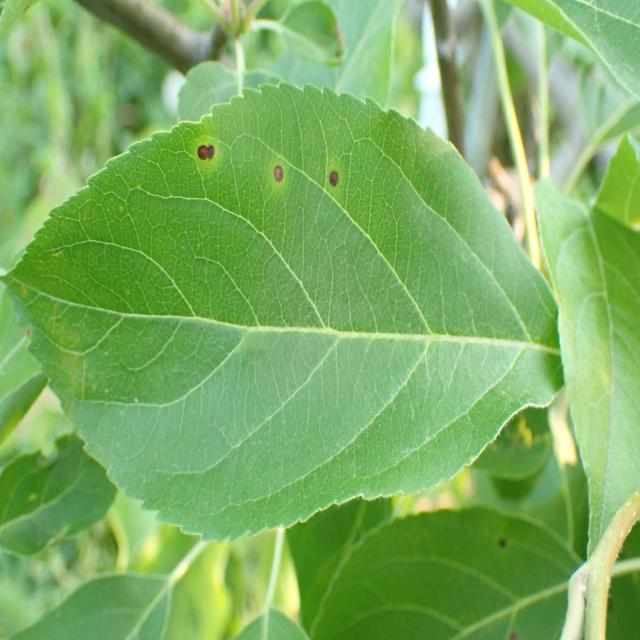Black Rot: (189, 130, 240, 203), (262, 148, 294, 216), (320, 148, 348, 212)
